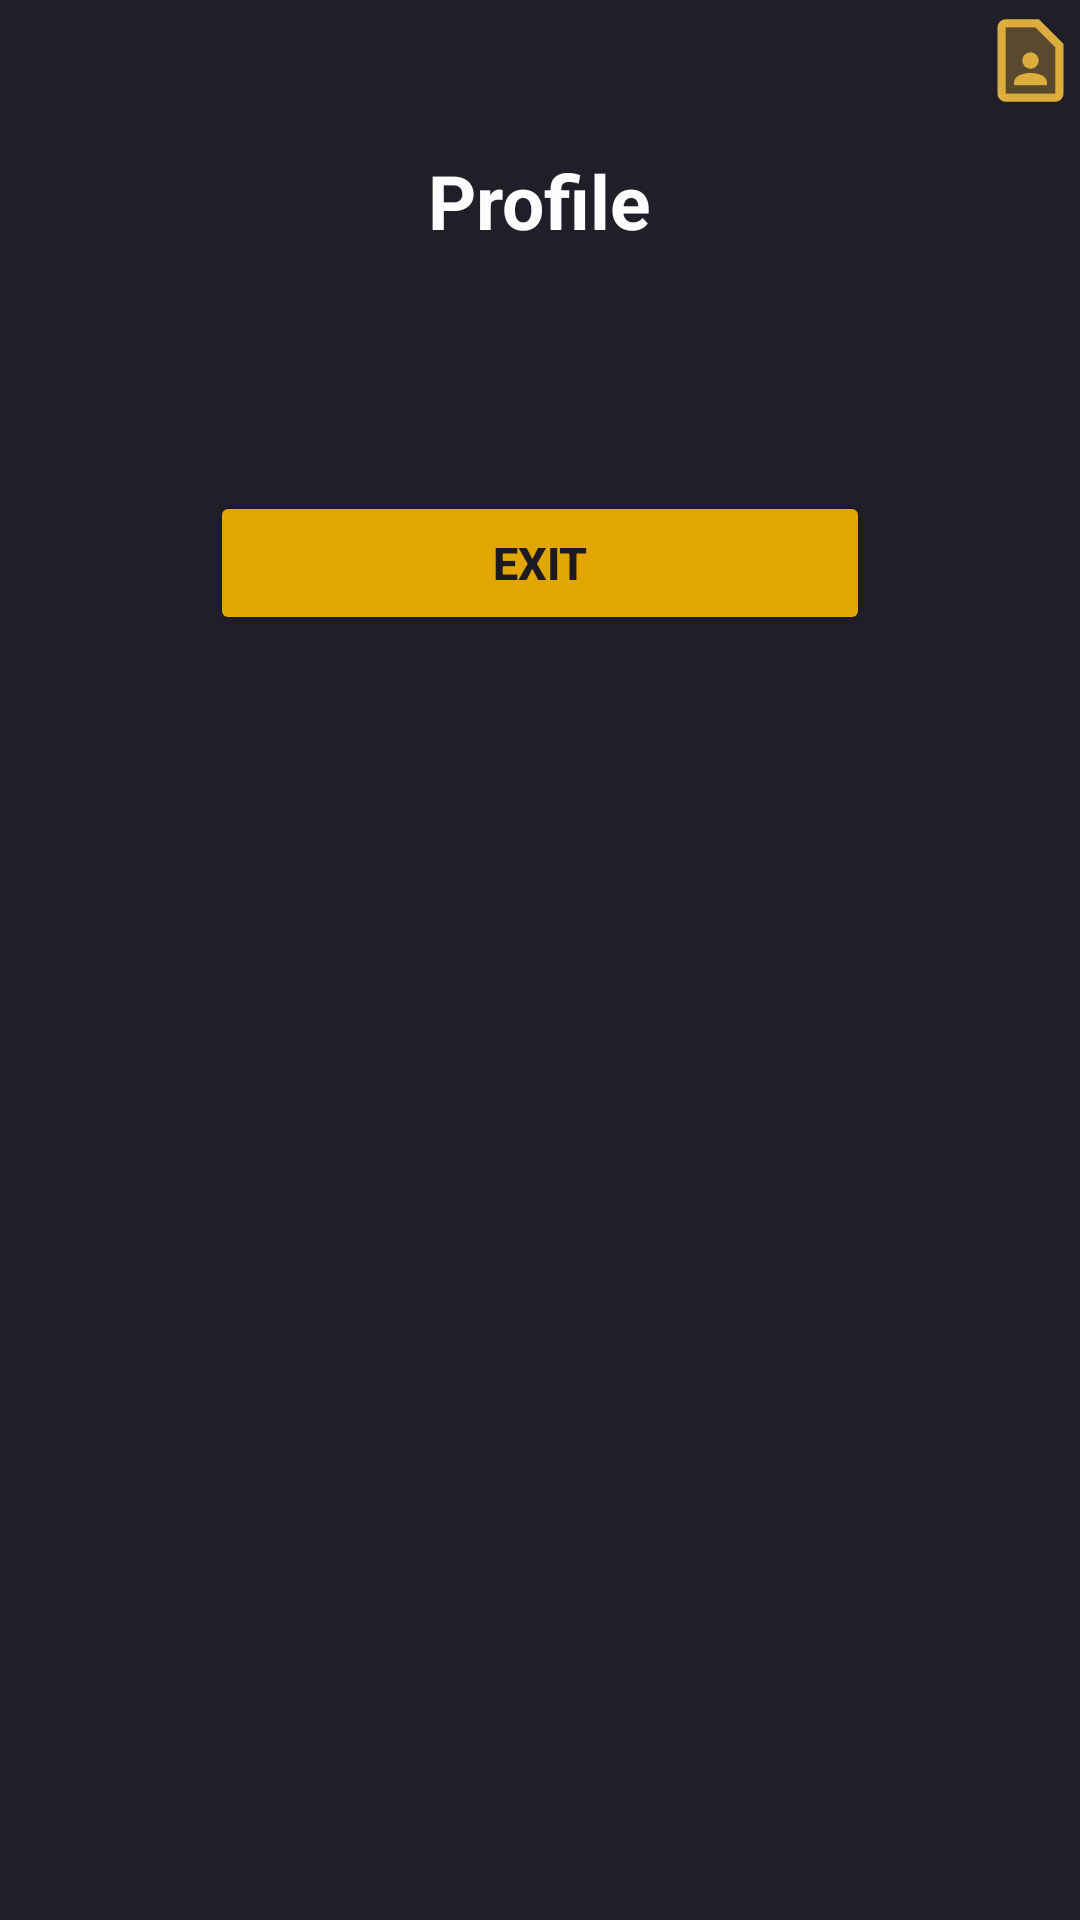

Icon bounding boxes for this 1080 × 1920 phone screenshot, format (x1, y1, x2, y2):
contact page: (997, 19, 1064, 102)
